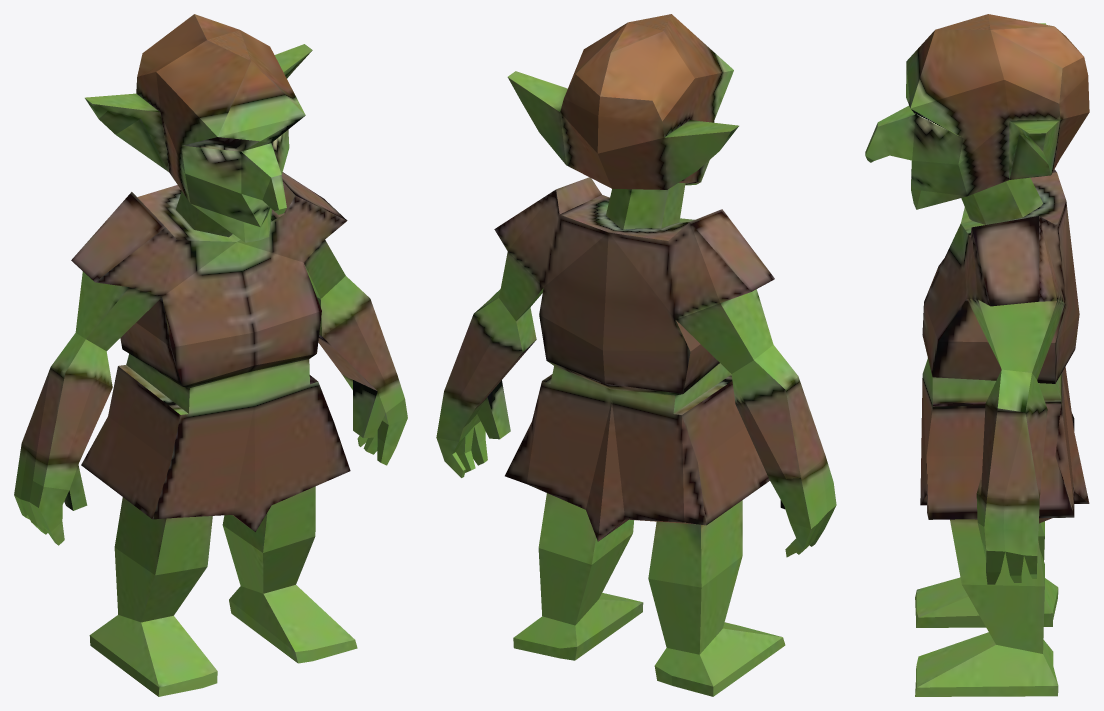
Rendered from C_Fly_Goblin_Walk.fbx.
The picture shows the model from 3 angles, left to right: view 1: azimuth 30°, elevation 25°; view 2: azimuth 150°, elevation 25°; view 3: azimuth 270°, elevation 25°; orthographic projection. The views are drawn at different scales.
Parts seen in each view (by area): view 1: C_Fly_Goblin; view 2: C_Fly_Goblin; view 3: C_Fly_Goblin.
Boxes of the visible parts, x1,y1,x2,y2 form: C_Fly_Goblin: (14,14,407,696); C_Fly_Goblin: (436,14,836,696); C_Fly_Goblin: (865,14,1089,696).
Bounding box in the file's own units: 126 × 201 × 64.82.
